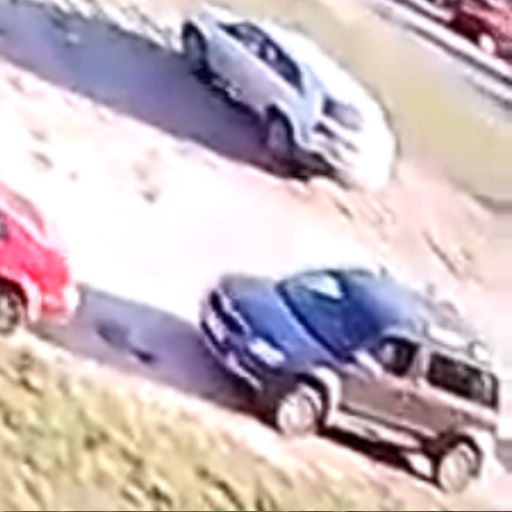Car: (199, 263, 505, 495), (181, 6, 383, 187), (0, 176, 92, 364)
